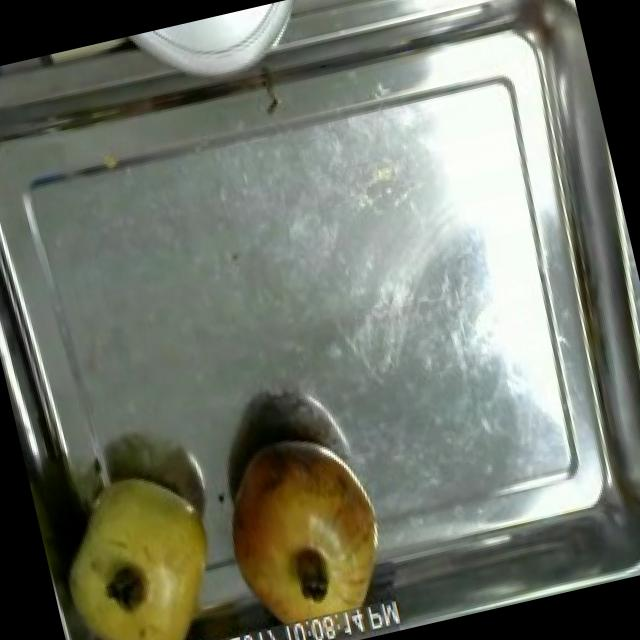fruit: (197, 410, 405, 640), (34, 448, 247, 640)
